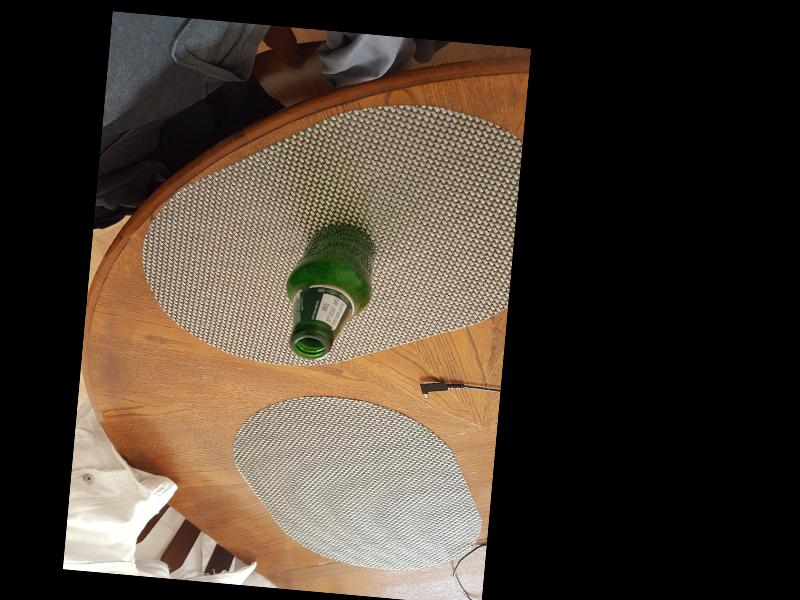Beer: (279, 218, 376, 362)
